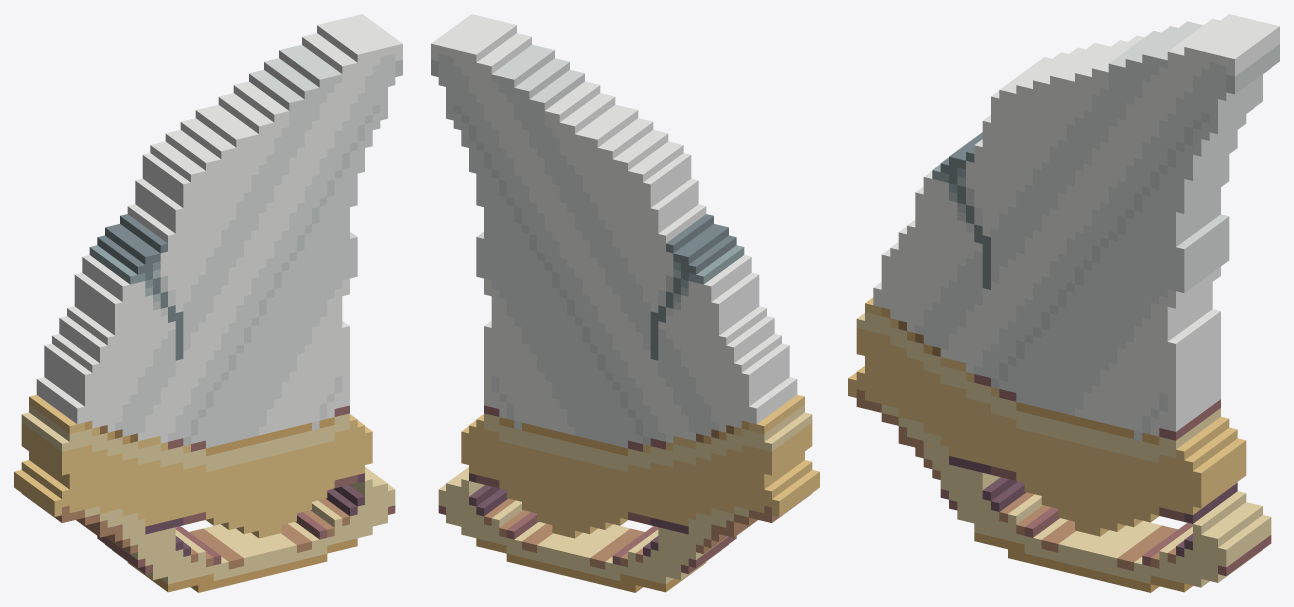
File: mirror shard 1.fbx
3 views of the same model, side by side, from view 1: azimuth 30°, elevation 25°; view 2: azimuth 150°, elevation 25°; view 3: azimuth 330°, elevation 25° (orthographic). The views are drawn at different scales.
Visible parts, largest first — view 1: mirror shard 1.png; view 2: mirror shard 1.png; view 3: mirror shard 1.png.
Part boxes in pixels (x1=…): mirror shard 1.png: x1=14, y1=14, x2=402, y2=592; mirror shard 1.png: x1=431, y1=14, x2=819, y2=592; mirror shard 1.png: x1=848, y1=14, x2=1279, y2=592.
Size of the model in its own units: 24.82 by 33.99 by 5.
